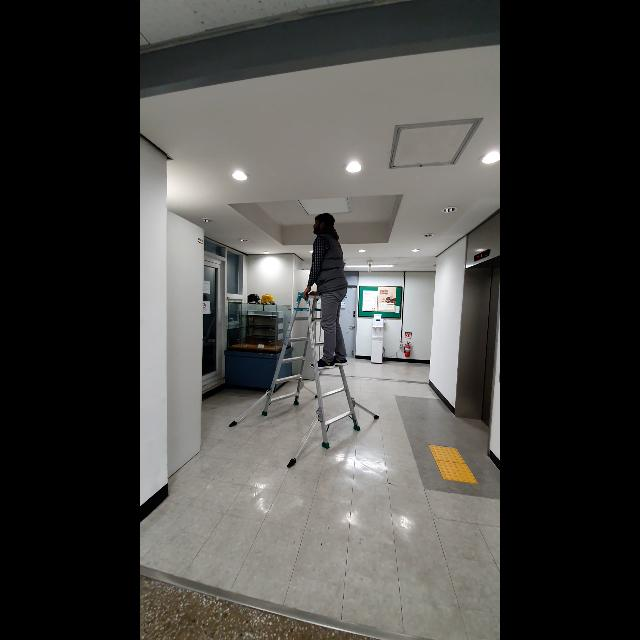boots: (225, 289, 382, 471)
vest: (302, 211, 350, 371)
